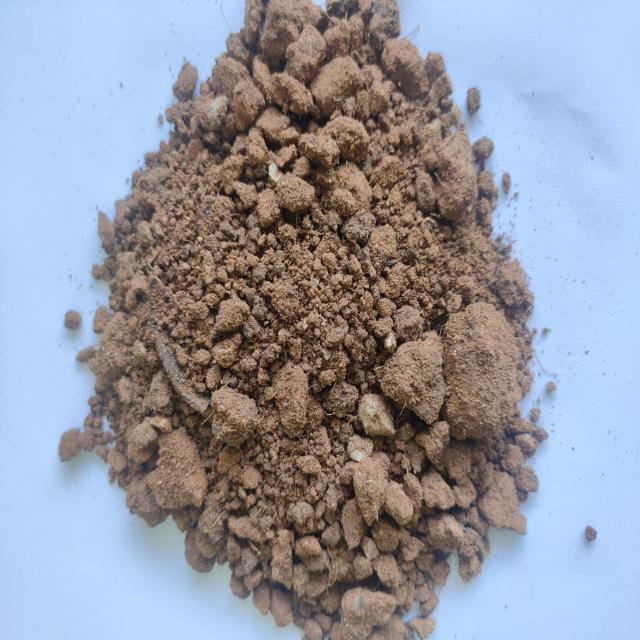soil: (157, 147, 482, 568)
